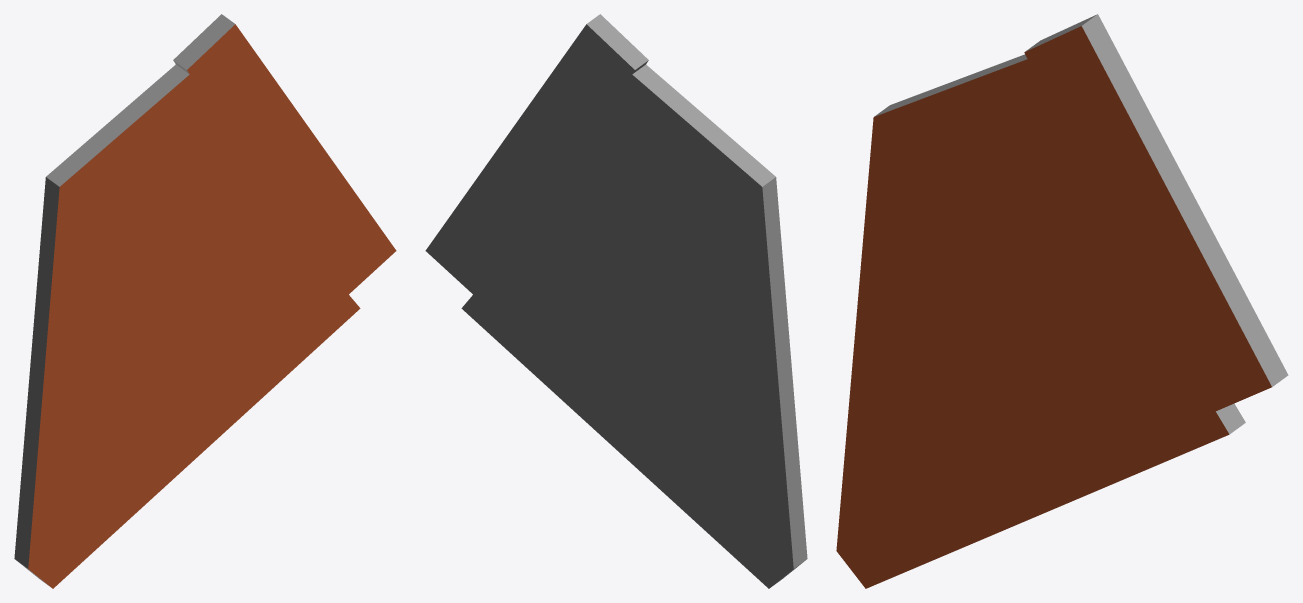
File: construction_0164_assumed_A_Grande_construcao_h6m.obj
3 views of the same model, side by side, from view 1: azimuth 30°, elevation 25°; view 2: azimuth 150°, elevation 25°; view 3: azimuth 330°, elevation 25° (orthographic). The views are drawn at different scales.
Parts seen in each view (by area): view 1: construction_0164_assumed_A_Grande_construcao; view 2: construction_0164_assumed_A_Grande_construcao; view 3: construction_0164_assumed_A_Grande_construcao.
Boxes of the visible parts, box(x1,y1,x2,y2) form: construction_0164_assumed_A_Grande_construcao: box(14, 14, 396, 588); construction_0164_assumed_A_Grande_construcao: box(425, 14, 807, 588); construction_0164_assumed_A_Grande_construcao: box(836, 14, 1288, 588).
Size of the model in its own units: 92.38 by 125 by 6.
